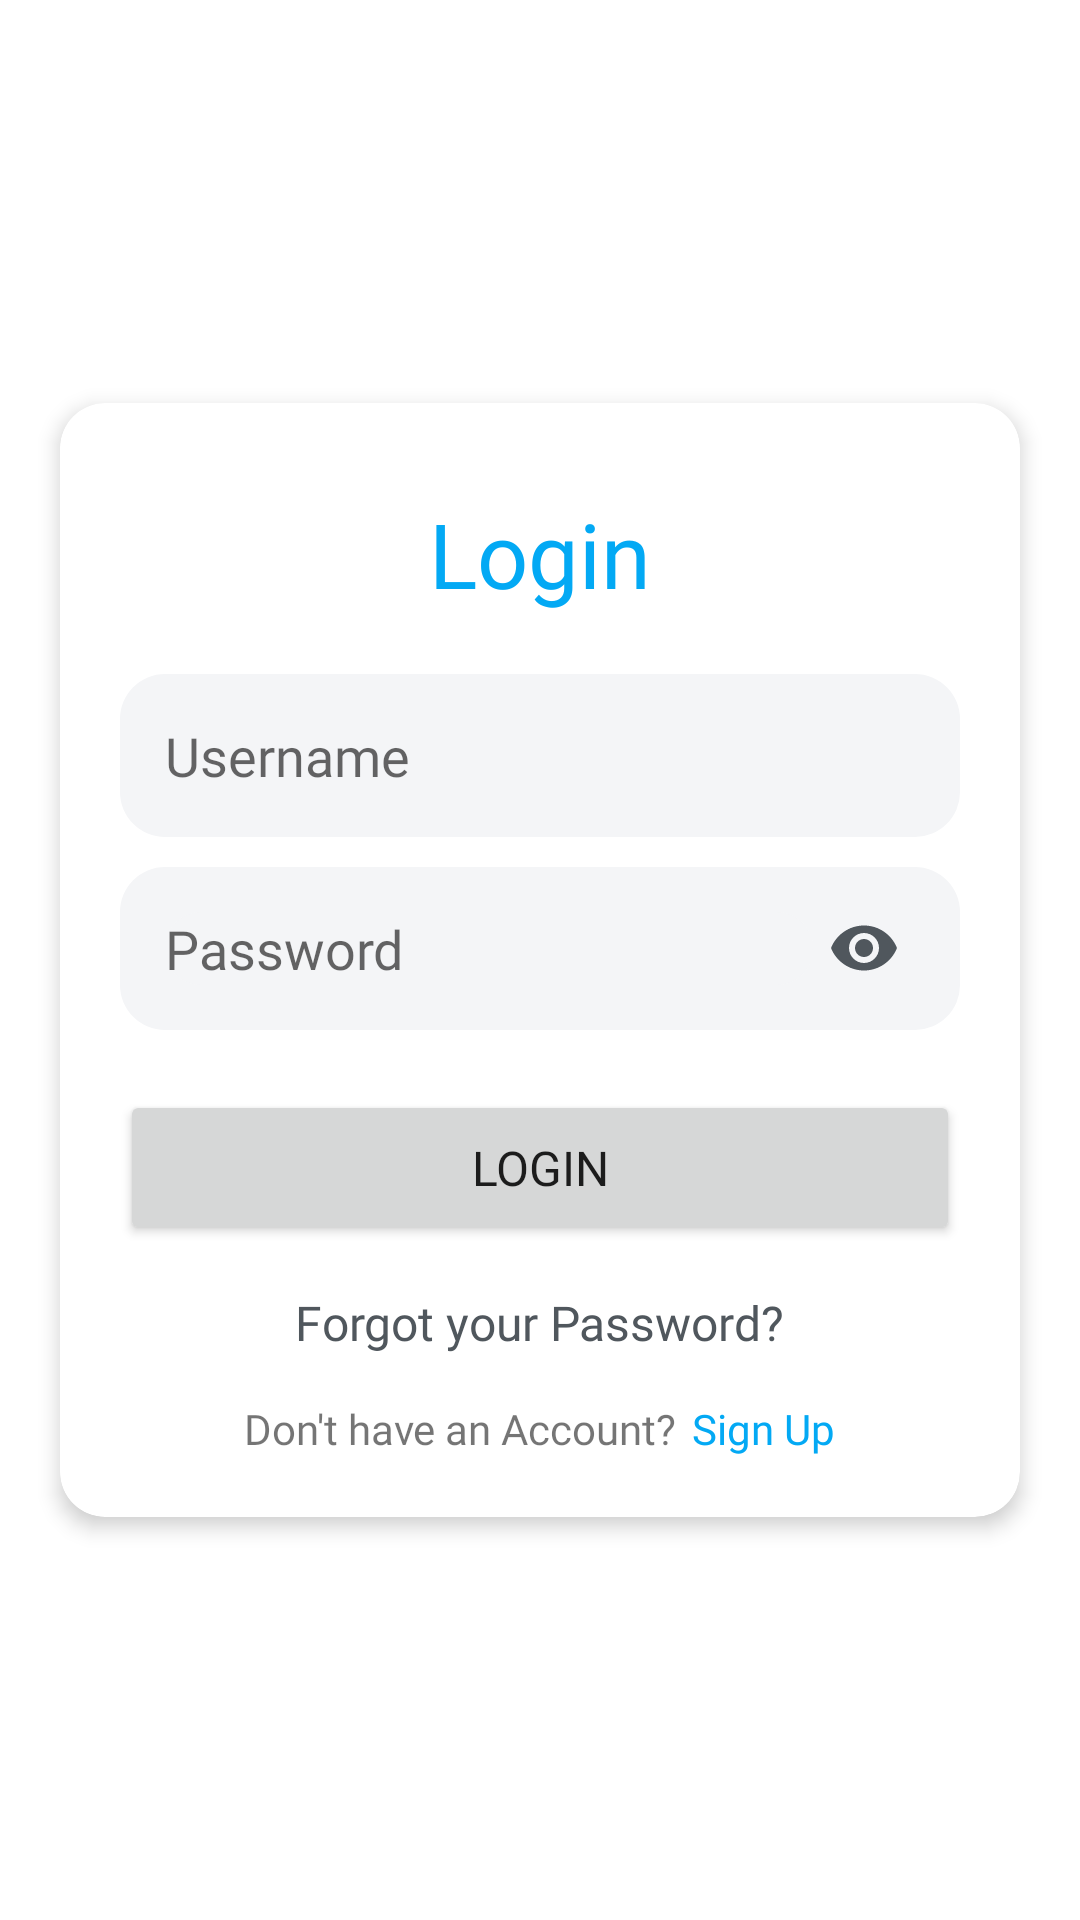

Named icons in this screenshot (1080 × 1920) and their centers, [x,y]:
show: [864,948]
